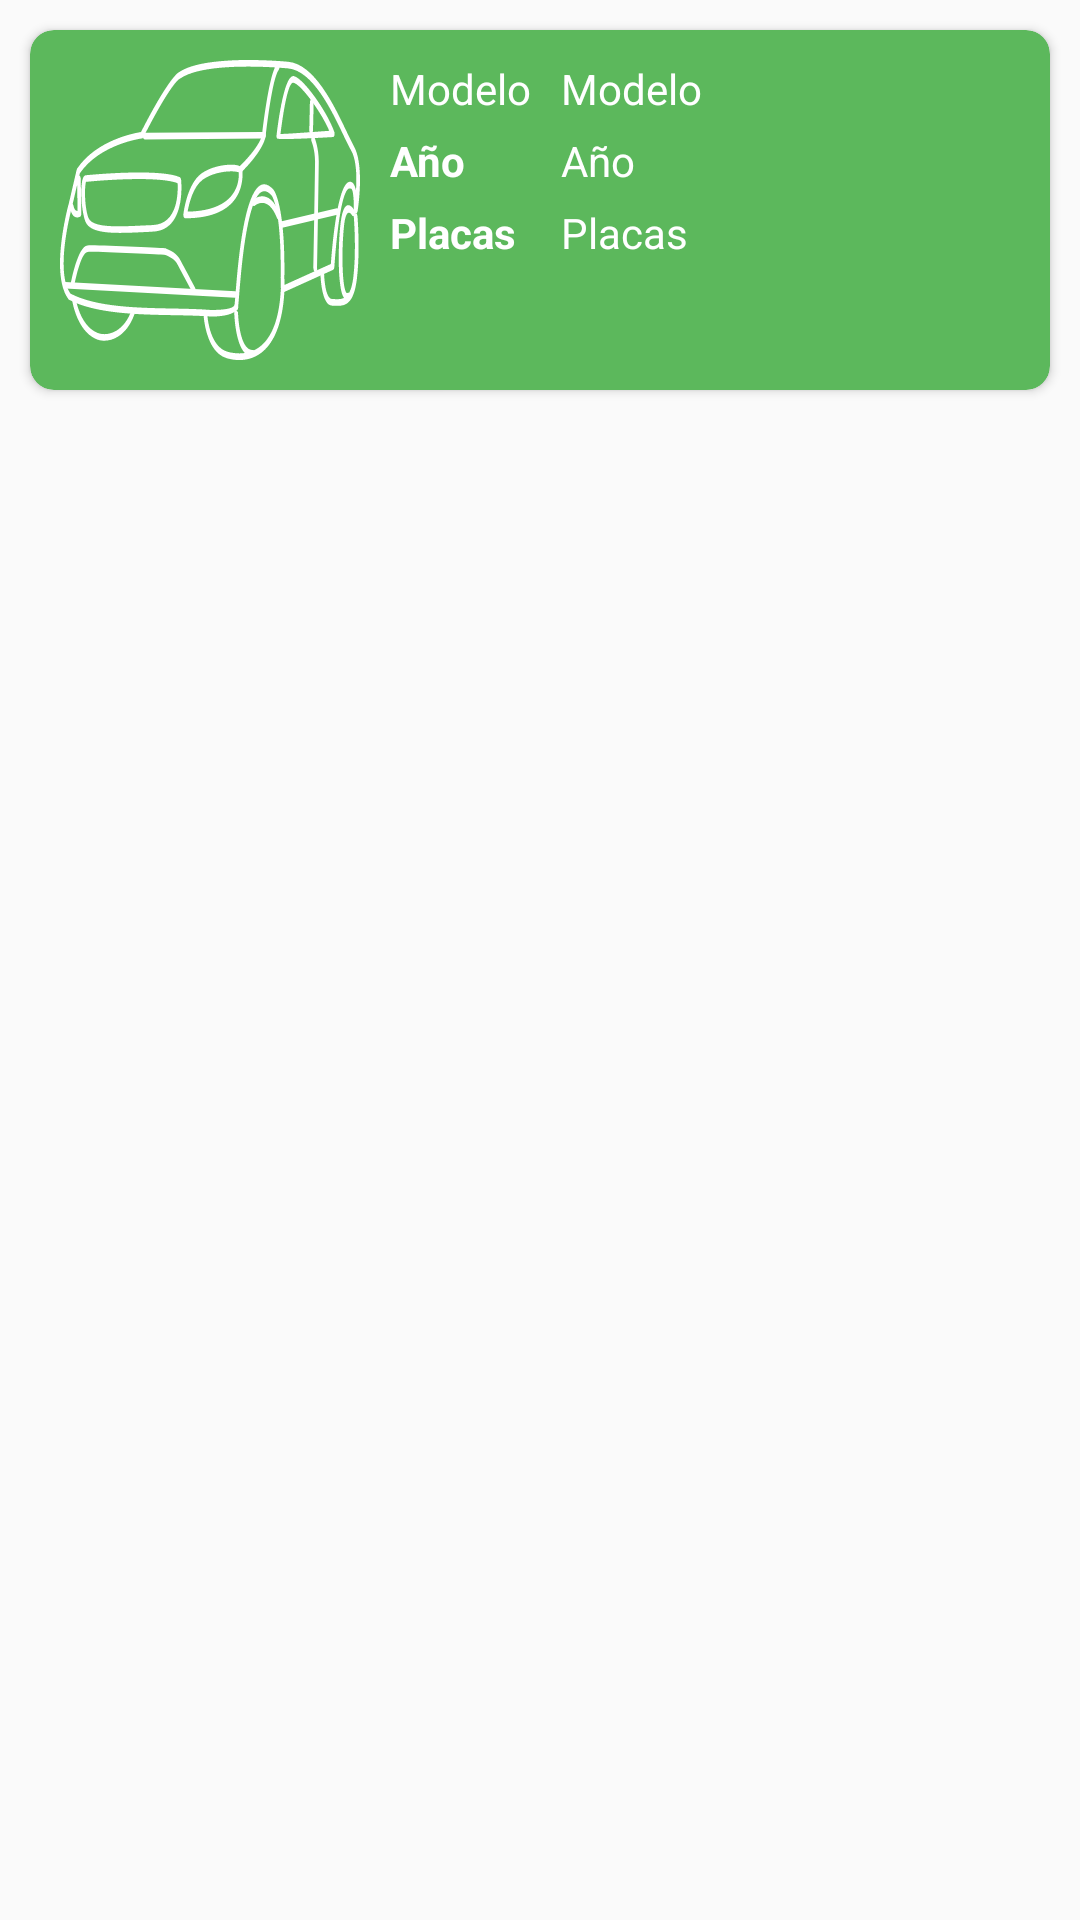

Locate icon controls on the screen. Image size 1080px x 1920px, boxes as (x1, y1, x2, y2).
car transportation vehicle: (60, 60, 360, 360)
